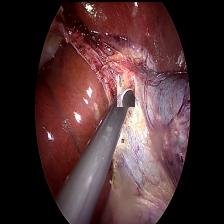Hook: (116, 71, 134, 106)
